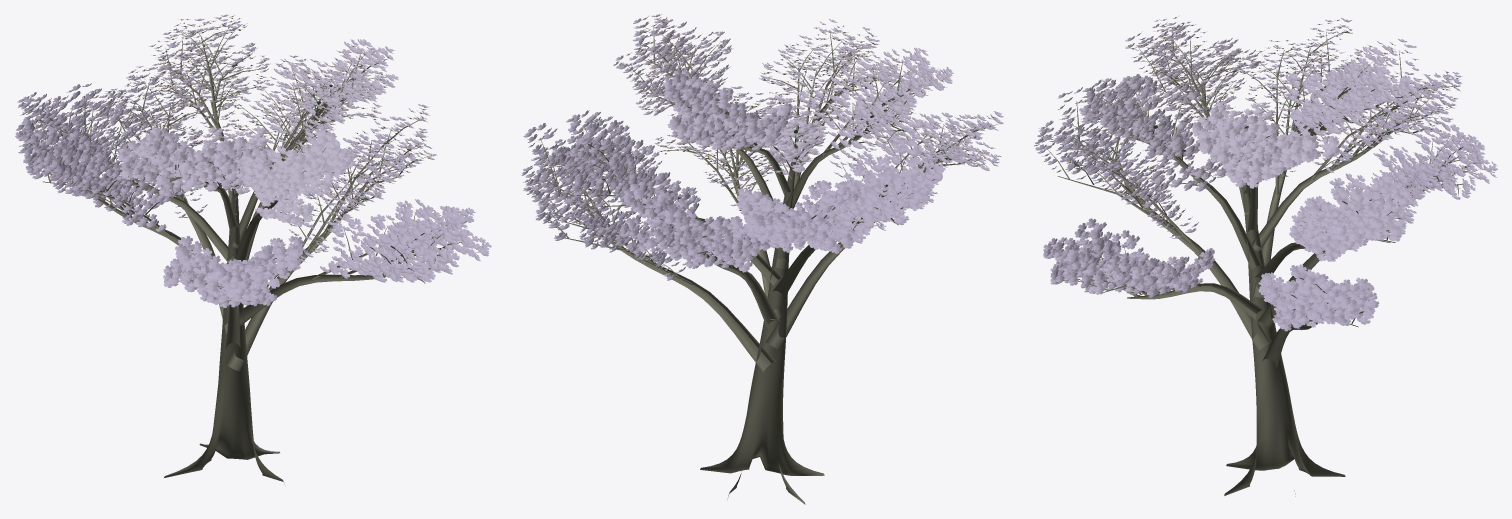
The picture shows the model from 3 angles, left to right: view 1: azimuth 30°, elevation 25°; view 2: azimuth 150°, elevation 25°; view 3: azimuth 270°, elevation 25°; orthographic projection. The views are drawn at different scales.
Visible parts, largest first — view 1: leaves, branches; view 2: leaves, branches; view 3: leaves, branches.
Boxes of the visible parts, bbox=[...] form: leaves: bbox=[15, 14, 491, 307]; branches: bbox=[32, 28, 478, 484]; leaves: bbox=[521, 14, 1003, 280]; branches: bbox=[529, 26, 994, 504]; leaves: bbox=[1034, 15, 1497, 331]; branches: bbox=[1046, 27, 1486, 496].
Bounding box in the file's own units: 8.75 × 8.9 × 8.64.
